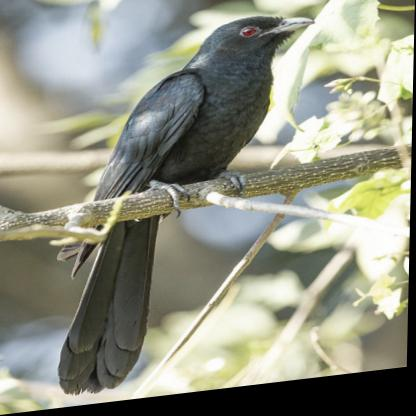Burung: (54, 16, 314, 400)
